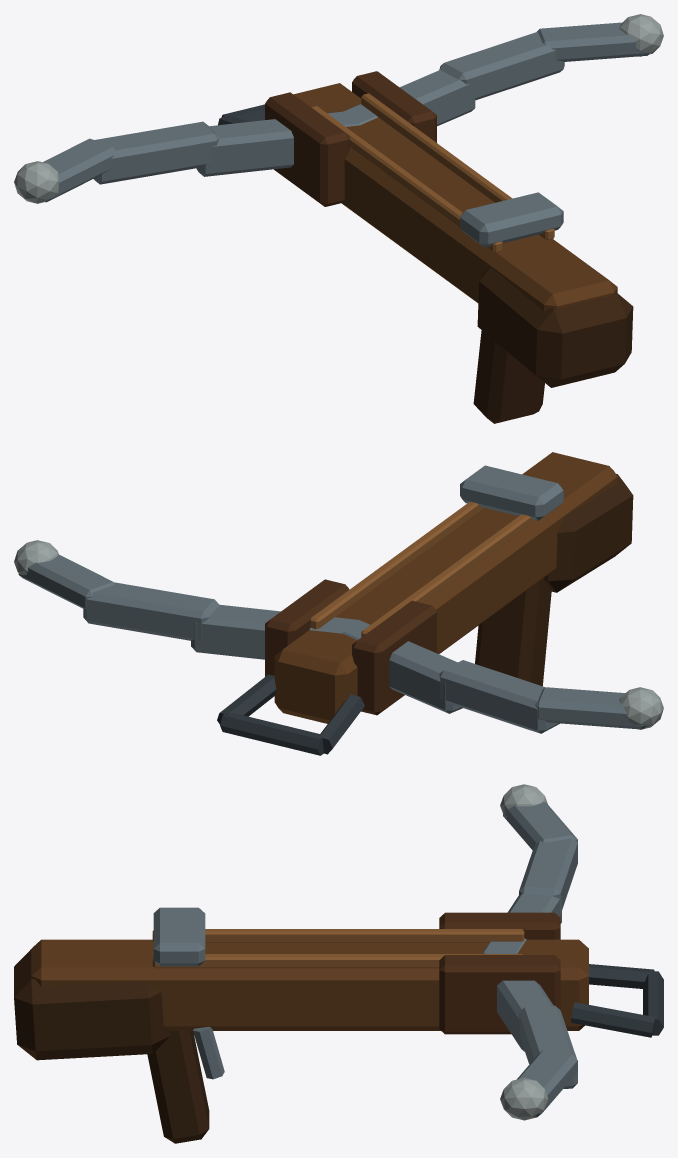
The model's file is Crossbow.glb.
3 renders of one model, top to bottom at view 1: azimuth 30°, elevation 25°; view 2: azimuth 150°, elevation 25°; view 3: azimuth 270°, elevation 25°, orthographic.
Visible parts, largest first — view 1: Sculpture; view 2: Sculpture; view 3: Sculpture.
Boxes of the visible parts, <box> form: Sculpture: <box>14,14,663,423</box>; Sculpture: <box>14,452,663,755</box>; Sculpture: <box>14,784,663,1143</box>.
Size of the model in its own units: 0.918 by 0.2854 by 0.8047.
